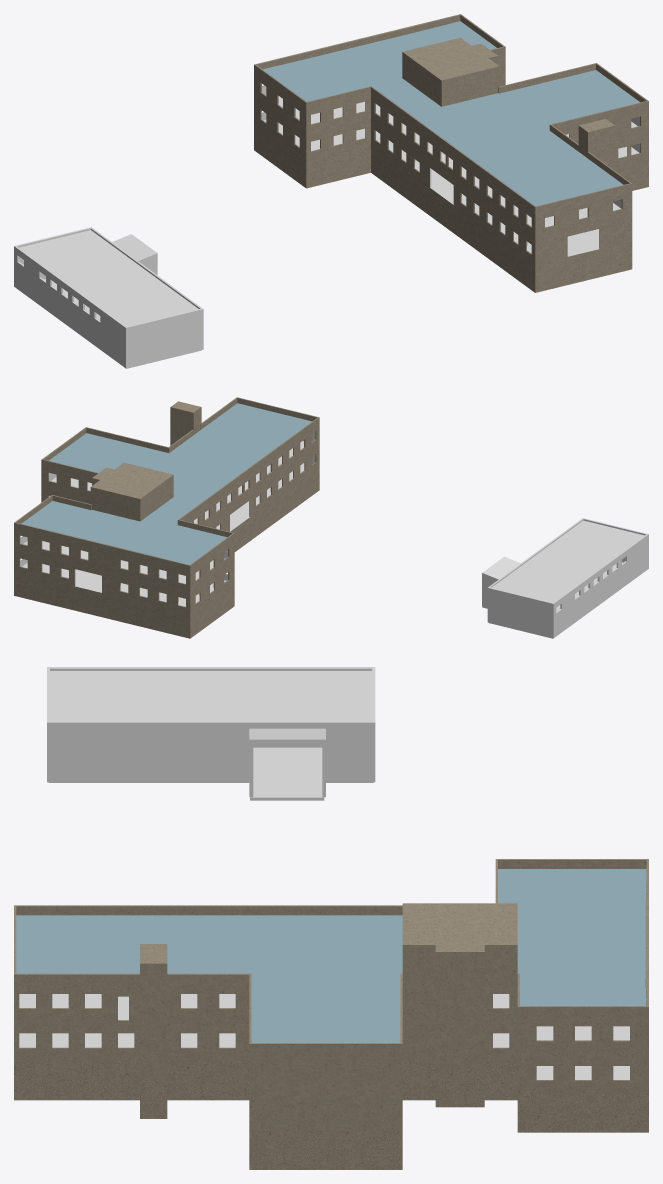
File: Ambulatorio.fbx
3 views of the same model, one above another, from view 1: azimuth 30°, elevation 25°; view 2: azimuth 150°, elevation 25°; view 3: azimuth 270°, elevation 25° (orthographic). The views are drawn at different scales.
Parts seen in each view (by area): view 1: Cube.015, Cube.001, Cube.003, Cube, Cube.008, Cube.013, Cube.004, Cube.002, Cube.018; view 2: Cube.015, Cube.001, Cube.003, Cube, Cube.008, Cube.013, Cube.004, Cube.002, Cube.018; view 3: Cube.015, Cube.001, Cube, Cube.003, Cube.008, Cube.013, Cube.004, Cube.012, Cube.002, Cube.018.
Part boxes in pixels (<box>): Cube.015: <box>263,21,639,206</box>; Cube.001: <box>254,14,648,238</box>; Cube.003: <box>254,78,648,265</box>; Cube: <box>254,123,648,292</box>; Cube.008: <box>14,227,203,368</box>; Cube.013: <box>19,230,198,326</box>; Cube.004: <box>402,37,615,157</box>; Cube.002: <box>265,94,637,227</box>; Cube.018: <box>112,234,157,274</box>; Cube.015: <box>21,403,311,564</box>; Cube.001: <box>14,397,319,592</box>; Cube.003: <box>14,444,319,615</box>; Cube: <box>14,467,319,638</box>; Cube.008: <box>487,518,648,638</box>; Cube.013: <box>492,520,644,602</box>; Cube.004: <box>90,401,201,521</box>; Cube.002: <box>23,441,303,583</box>; Cube.018: <box>482,556,520,607</box>; Cube.015: <box>16,869,646,1042</box>; Cube.001: <box>14,859,648,1090</box>; Cube: <box>14,1060,648,1169</box>; Cube.003: <box>14,1020,648,1130</box>; Cube.008: <box>47,667,375,782</box>; Cube.013: <box>50,671,371,721</box>; Cube.004: <box>140,903,517,993</box>; Cube.012: <box>48,747,373,800</box>; Cube.002: <box>19,994,629,1040</box>; Cube.018: <box>249,728,325,797</box>.
Size of what is drawn, in the model's own units: 9155 by 1567 by 5800.
